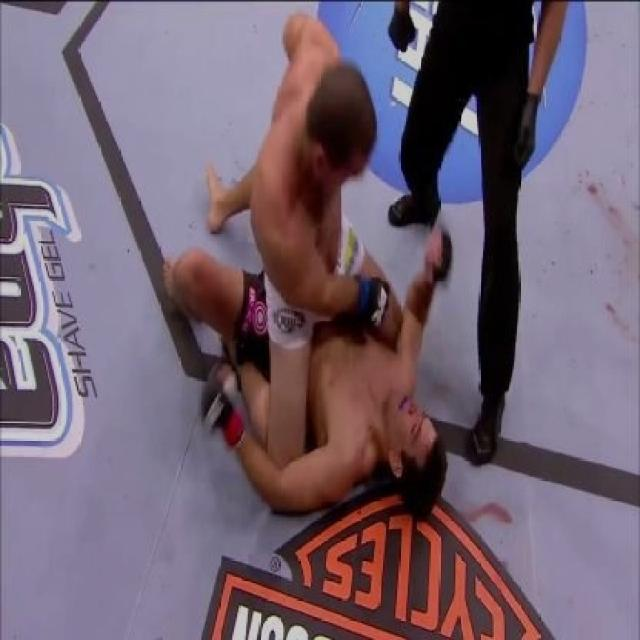fight: (137, 2, 485, 549)
non-fight: (353, 0, 604, 449)
